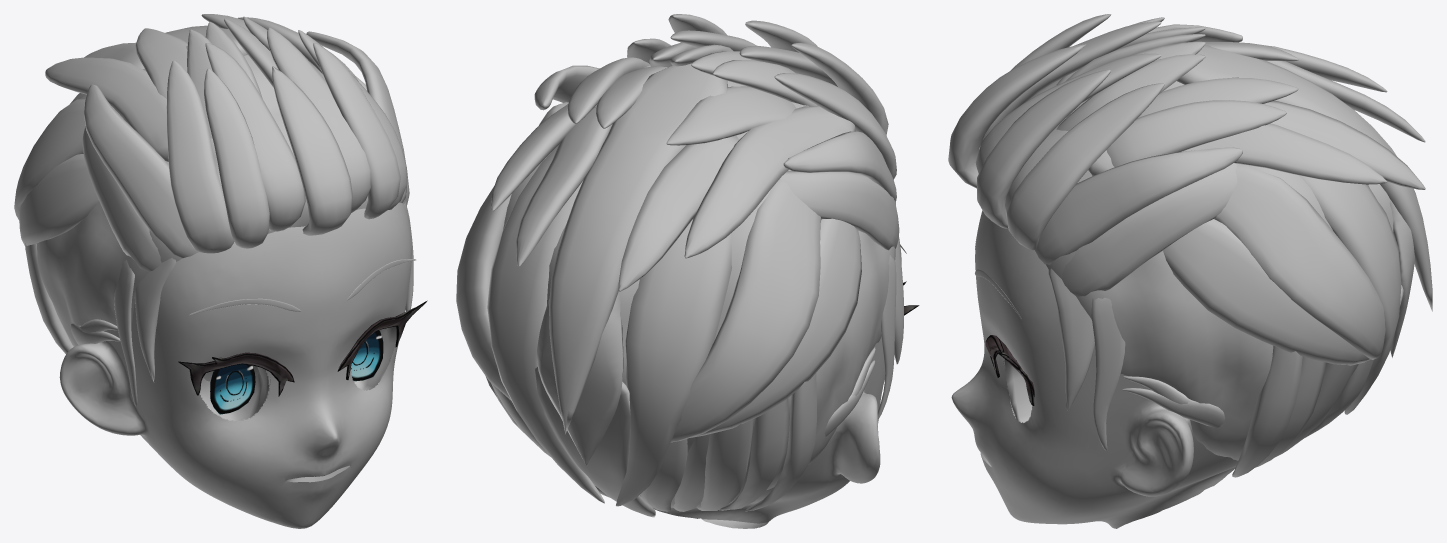
Rendered from male_hair_short.glb.
3 views of the same model, side by side, from view 1: azimuth 30°, elevation 25°; view 2: azimuth 150°, elevation 25°; view 3: azimuth 270°, elevation 25° (orthographic). The views are drawn at different scales.
Parts seen in each view (by area): view 1: face_0, hair_3, hair_2, hair_27, hair_21, hair_8, hair_1, hair_6, hair_17, hair_18, hair_19, hair_30 (+12 smaller); view 2: hair_20, hair_19, hair_0, hair_7, hair_6, hair_27, face_0, hair_17, hair_4, hair_11, hair_18, hair_21 (+16 smaller); view 3: face_0, hair_27, hair_19, hair_17, hair_21, hair_18, hair_8, hair_6, hair_20, hair_3, hair_0, hair_5 (+17 smaller).
Boxes of the visible parts, left/top/right/bottom form: face_0: left=59, top=202, right=411, bottom=528; hair_3: left=204, top=43, right=400, bottom=248; hair_2: left=205, top=27, right=370, bottom=231; hair_27: left=37, top=55, right=406, bottom=381; hair_21: left=84, top=31, right=407, bottom=257; hair_8: left=166, top=30, right=407, bottom=253; hair_1: left=272, top=66, right=352, bottom=235; hair_6: left=45, top=57, right=168, bottom=161; hair_17: left=19, top=154, right=98, bottom=246; hair_18: left=82, top=76, right=409, bottom=271; hair_19: left=14, top=99, right=122, bottom=220; hair_30: left=210, top=330, right=383, bottom=414; hair_20: left=487, top=145, right=731, bottom=506; hair_19: left=456, top=169, right=821, bottom=442; hair_0: left=549, top=63, right=727, bottom=433; hair_7: left=516, top=106, right=738, bottom=291; hair_6: left=491, top=64, right=855, bottom=258; hair_27: left=503, top=80, right=895, bottom=507; face_0: left=653, top=237, right=901, bottom=528; hair_17: left=690, top=218, right=861, bottom=437; hair_4: left=596, top=66, right=796, bottom=145; hair_11: left=537, top=294, right=623, bottom=466; hair_18: left=539, top=102, right=899, bottom=250; hair_21: left=534, top=65, right=896, bottom=201; face_0: left=951, top=210, right=1238, bottom=528; hair_27: left=1005, top=78, right=1393, bottom=460; hair_19: left=1214, top=164, right=1385, bottom=359; hair_17: left=1163, top=219, right=1370, bottom=365; hair_21: left=1035, top=24, right=1242, bottom=264; hair_18: left=1062, top=163, right=1238, bottom=296; hair_8: left=1006, top=17, right=1164, bottom=250; hair_6: left=1088, top=45, right=1387, bottom=184; hair_20: left=1299, top=175, right=1401, bottom=414; hair_3: left=977, top=14, right=1111, bottom=228; hair_0: left=1177, top=45, right=1432, bottom=311; hair_5: left=1106, top=100, right=1286, bottom=166.
Bounding box in the file's own units: 0.2693 × 0.3484 × 0.3168.
Materials: 33 (2 with a texture image).
